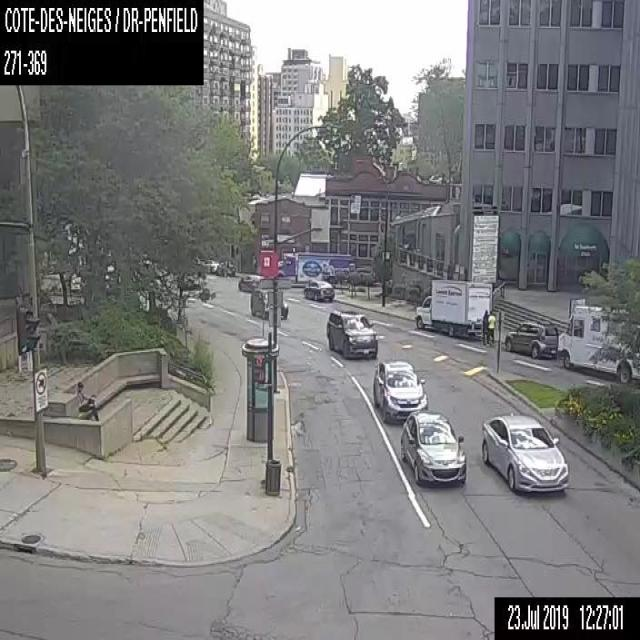pedestrian: (74, 381, 101, 420), (482, 309, 488, 344), (488, 310, 494, 344)
vehicle: (481, 410, 568, 490), (557, 302, 639, 382), (399, 409, 466, 485), (414, 276, 492, 339), (372, 359, 428, 422), (325, 306, 378, 358), (276, 251, 349, 285), (504, 319, 558, 356), (250, 276, 288, 319), (303, 279, 334, 299), (349, 266, 373, 284), (238, 273, 263, 289), (215, 261, 236, 276)
